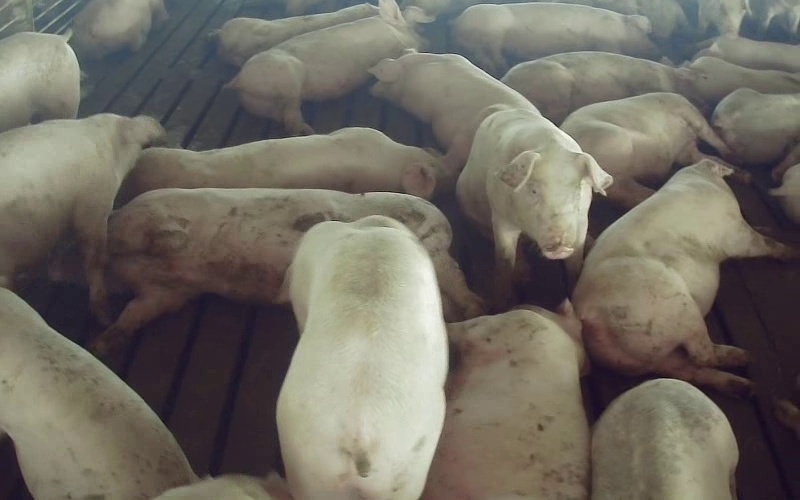pig: (94, 189, 482, 353), (573, 159, 790, 392), (277, 216, 447, 499), (423, 301, 589, 499), (456, 109, 611, 304), (122, 127, 445, 201), (369, 52, 537, 171), (561, 93, 727, 208), (592, 379, 738, 499), (453, 2, 658, 77), (502, 51, 684, 124), (213, 3, 378, 66), (0, 32, 79, 131), (712, 88, 799, 163), (686, 56, 799, 105), (73, 0, 166, 59)
